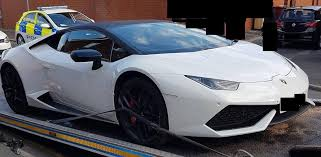Lamborghini: (3, 30, 309, 133)
